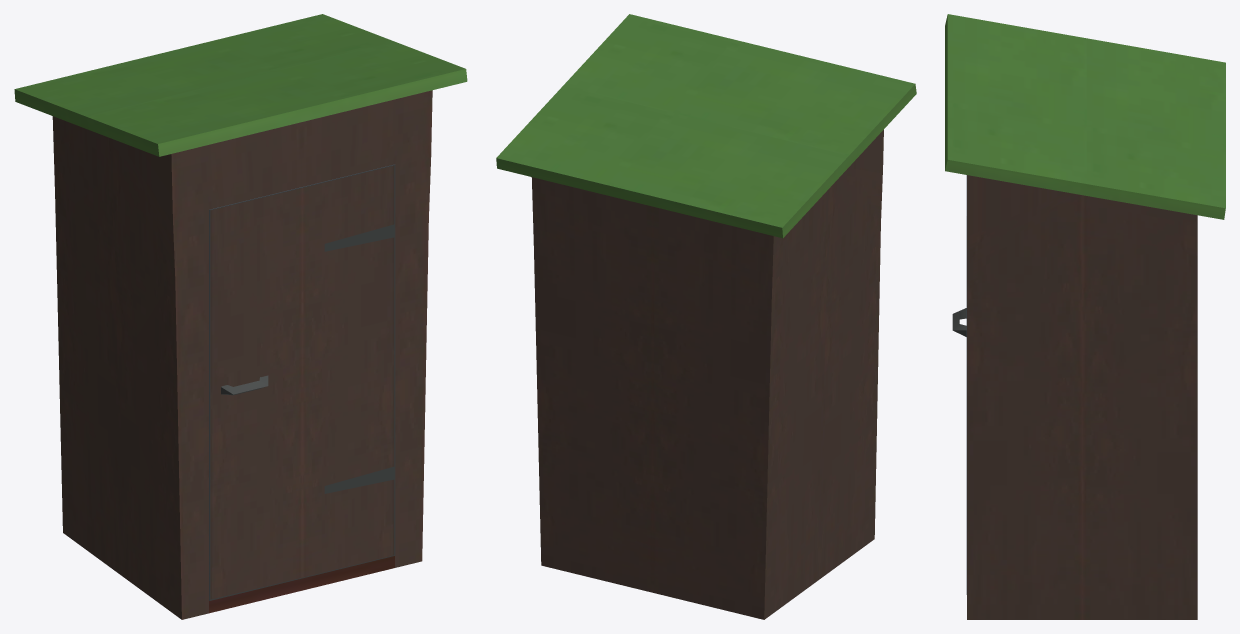
File: outdoor-bathroom.glb
3 renders of one model, left to right at view 1: azimuth 30°, elevation 25°; view 2: azimuth 150°, elevation 25°; view 3: azimuth 270°, elevation 25°, orthographic. The views are drawn at different scales.
Parts seen in each view (by area): view 1: OutdoorBathroom, OutdoorBathroom_Door, OutdoorBathroom_Hinge1, OutdoorBathroom_Hinge; view 2: OutdoorBathroom; view 3: OutdoorBathroom, OutdoorBathroom_Door.
Boxes of the visible parts, left/top/right/bottom form: OutdoorBathroom: left=14, top=14, right=467, bottom=619; OutdoorBathroom_Door: left=209, top=164, right=395, bottom=600; OutdoorBathroom_Hinge1: left=324, top=466, right=394, bottom=493; OutdoorBathroom_Hinge: left=324, top=224, right=394, bottom=251; OutdoorBathroom: left=496, top=14, right=916, bottom=619; OutdoorBathroom: left=945, top=14, right=1225, bottom=619; OutdoorBathroom_Door: left=966, top=175, right=966, bottom=594.
Size of what is drawn, in the model's own units: 1.76 by 2.68 by 1.43.
3 materials, 3 textured.
